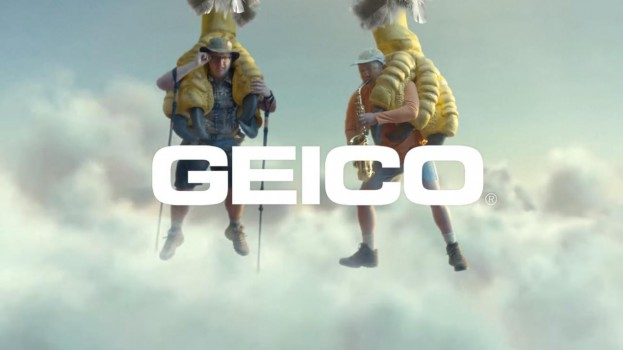geico: (149, 141, 505, 207)
